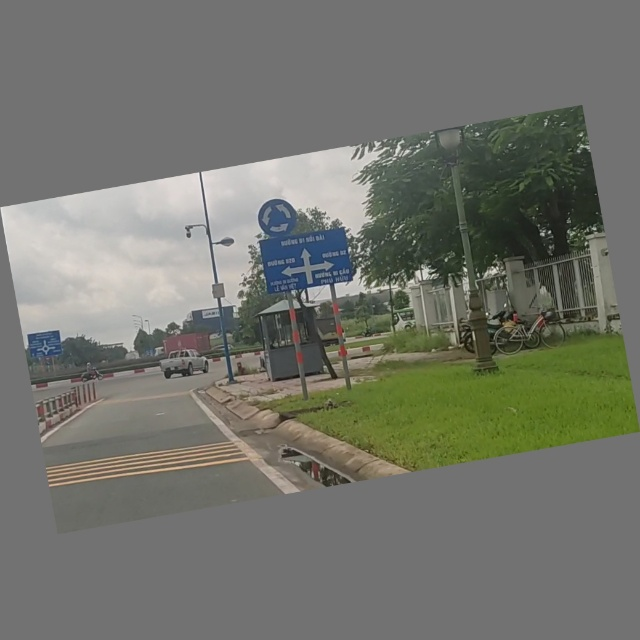R.303: (253, 195, 301, 242)
